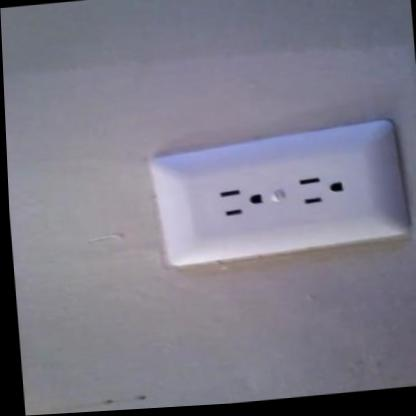OUTLET: (153, 117, 404, 268)
